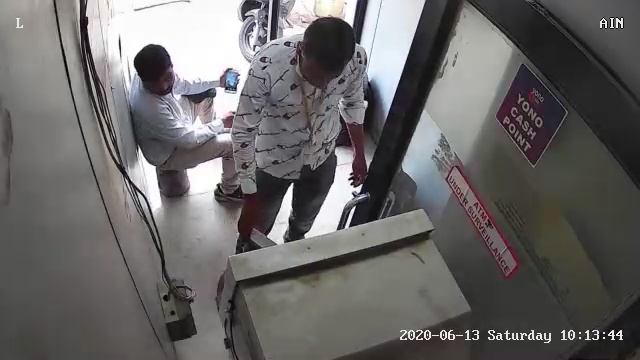open: (324, 18, 486, 234)
